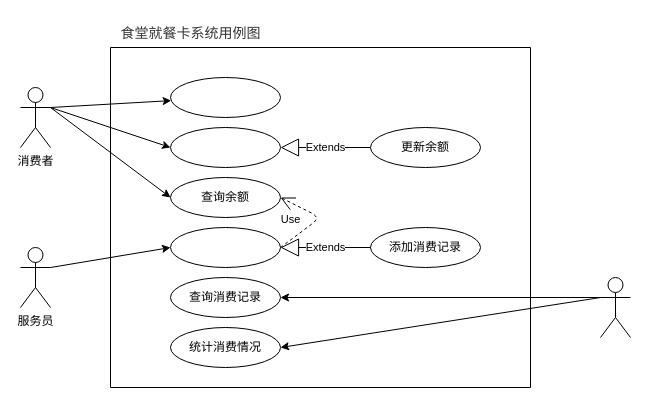
The diagram is 650 pixels wide and 405 high, and some of its shapes have lost their labels. The centre of each missing label's shape, as x and y in pixels:
"注册" belongs at point (225, 97).
"管理者" belongs at point (615, 307).
"缴费" belongs at point (225, 147).
"输入扣款金额" belongs at point (225, 247).
